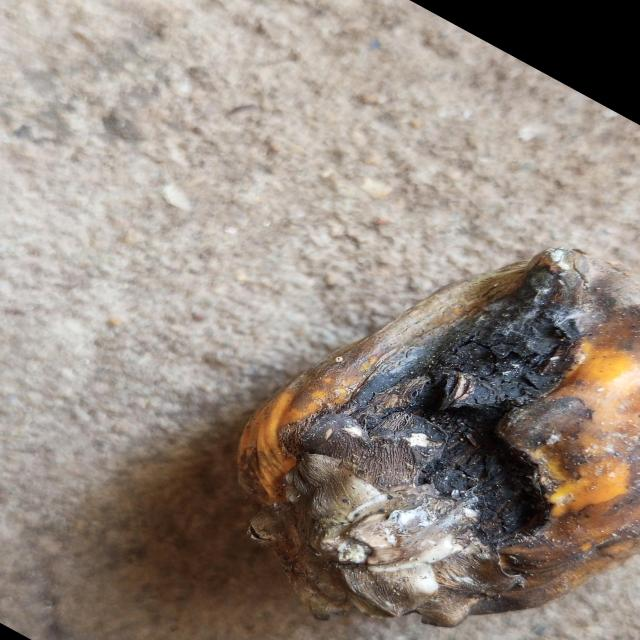damaged: (238, 253, 640, 629)
